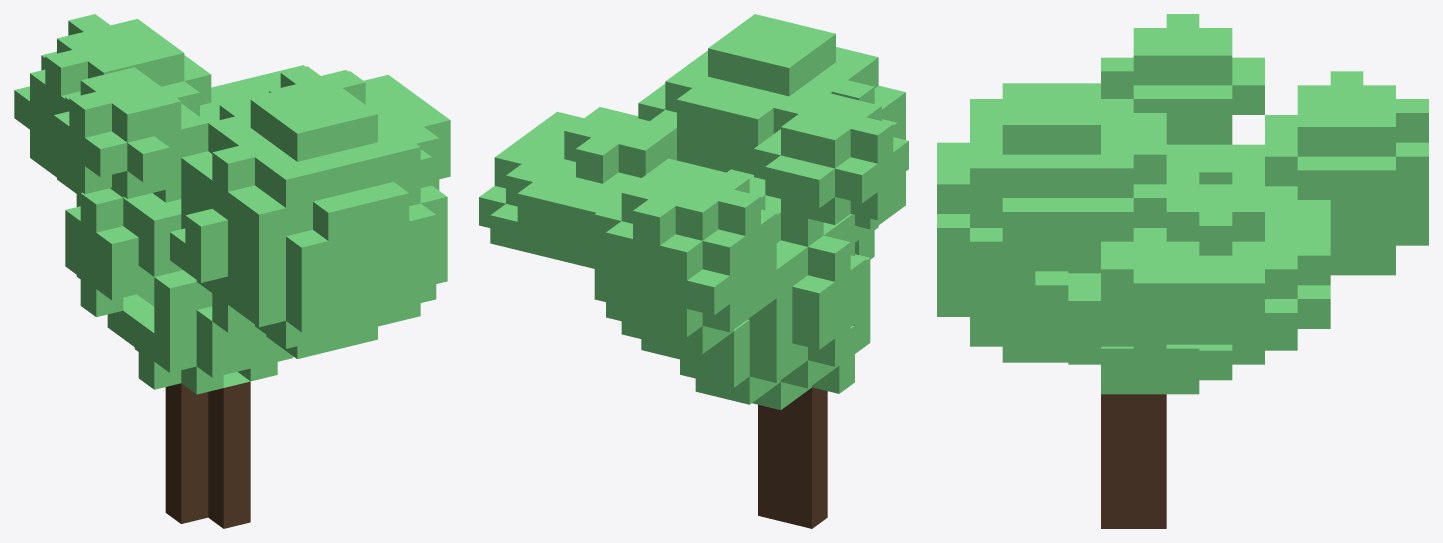
File: tree5.fbx
The picture shows the model from 3 angles, left to right: view 1: azimuth 30°, elevation 25°; view 2: azimuth 150°, elevation 25°; view 3: azimuth 270°, elevation 25°; orthographic projection. The views are drawn at different scales.
Visible parts, largest first — view 1: Sphere.016; view 2: Sphere.016; view 3: Sphere.016.
Part boxes in pixels (<box>): Sphere.016: <box>14,14,450,528</box>; Sphere.016: <box>479,14,908,528</box>; Sphere.016: <box>937,14,1428,528</box>.
Size of the model in its own units: 904 by 1043 by 1043.
